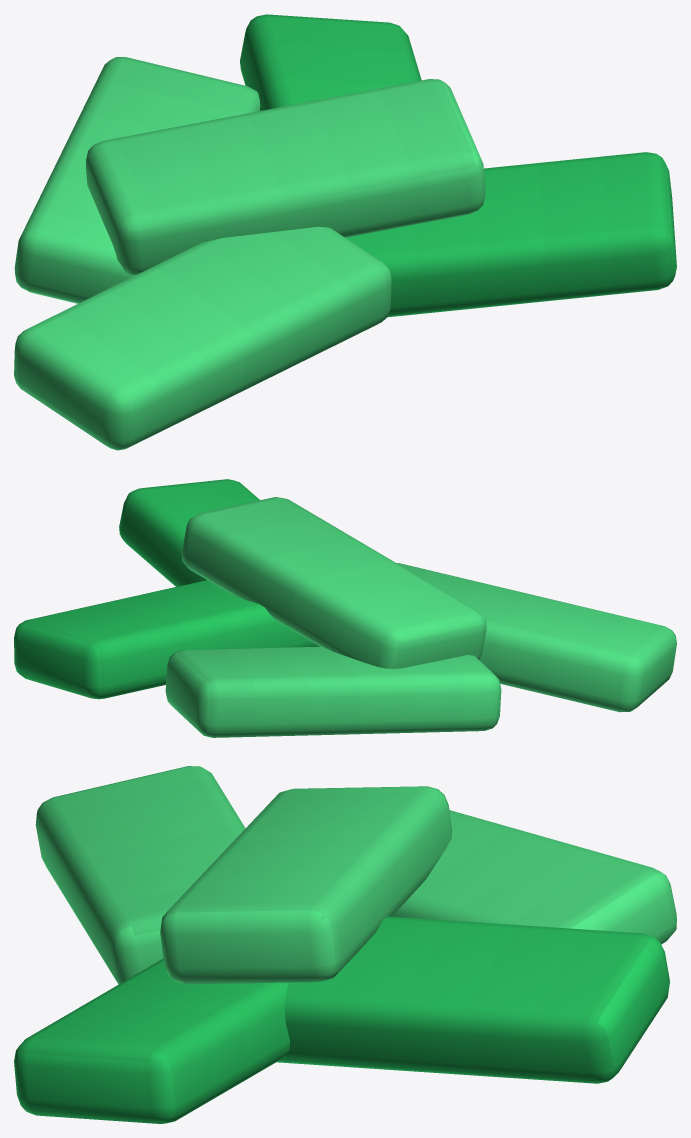
The model's file is lettuce_chopped.glb.
3 views of the same model, one above another, from view 1: azimuth 30°, elevation 25°; view 2: azimuth 150°, elevation 25°; view 3: azimuth 270°, elevation 25° (orthographic). The views are drawn at different scales.
Visible parts, largest first — view 1: LettuceStrip_0, LettuceStrip_4, LettuceStrip_1, LettuceStrip_2, LettuceStrip_3; view 2: LettuceStrip_4, LettuceStrip_2, LettuceStrip_3, LettuceStrip_0, LettuceStrip_1; view 3: LettuceStrip_3, LettuceStrip_4, LettuceStrip_1, LettuceStrip_0, LettuceStrip_2.
Part boxes in pixels (bbox=[...]): LettuceStrip_0: bbox=[14, 226, 391, 450]; LettuceStrip_4: bbox=[86, 79, 485, 275]; LettuceStrip_1: bbox=[346, 152, 676, 317]; LettuceStrip_2: bbox=[14, 57, 260, 303]; LettuceStrip_3: bbox=[240, 14, 421, 110]; LettuceStrip_4: bbox=[181, 497, 486, 668]; LettuceStrip_2: bbox=[165, 646, 501, 737]; LettuceStrip_3: bbox=[14, 580, 319, 699]; LettuceStrip_0: bbox=[397, 563, 676, 712]; LettuceStrip_1: bbox=[119, 479, 259, 586]; LettuceStrip_3: bbox=[277, 916, 669, 1083]; LettuceStrip_4: bbox=[160, 786, 451, 984]; LettuceStrip_1: bbox=[14, 959, 289, 1123]; LettuceStrip_0: bbox=[35, 766, 245, 984]; LettuceStrip_2: bbox=[392, 810, 676, 944].
Size of the model in its own units: 0.3493 by 0.0943 by 0.2833.
Materials: 2 (2 with a texture image).
